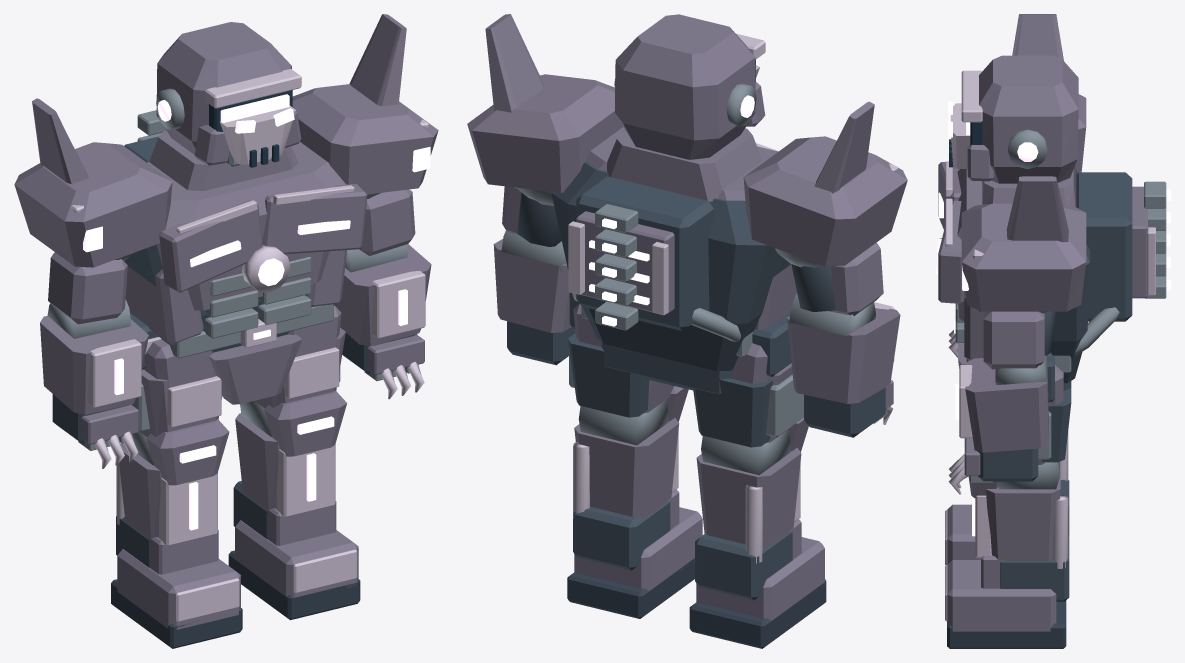
Rendered from character_revenant.glb.
3 views of the same model, side by side, from view 1: azimuth 30°, elevation 25°; view 2: azimuth 150°, elevation 25°; view 3: azimuth 270°, elevation 25° (orthographic). The views are drawn at different scales.
Parts seen in each view (by area): view 1: shoulder_pauldron_63, shoulder_pauldron_78, helmet_94, thorax_carapace_2, pectoral_plate_13, pectoral_plate_3, forearm_bracer_69, boot_toe_31, boot_toe_47, upper_arm_plate_67, codpiece_24, neck_guard_collar_93 (+48 smaller); view 2: helmet_94, shoulder_pauldron_63, torso_1, shoulder_pauldron_78, reactor_pack_108, forearm_bracer_69, shin_armor_51, shin_armor_35, neck_guard_collar_93, forearm_bracer_84, boot_ankle_49, boot_ankle_33 (+36 smaller); view 3: shoulder_pauldron_78, helmet_94, reactor_pack_108, forearm_bracer_84, boot_toe_47, shin_armor_51, upper_arm_plate_82, shoulder_blade_fin_127, boot_sole_46, boot_ankle_49, torso_1, shoulder_blade_fin_122 (+28 smaller).
Part boxes in pixels (x1,y1,x2,y2): shoulder_pauldron_63: (14, 142, 172, 267); shoulder_pauldron_78: (292, 84, 438, 194); helmet_94: (156, 22, 291, 154); thorax_carapace_2: (147, 142, 345, 310); pectoral_plate_13: (262, 184, 367, 254); pectoral_plate_3: (159, 199, 262, 292); forearm_bracer_69: (40, 316, 148, 414); boot_toe_31: (117, 549, 240, 629); boot_toe_47: (235, 520, 358, 597); upper_arm_plate_67: (48, 252, 127, 324); codpiece_24: (208, 334, 302, 404); neck_guard_collar_93: (149, 130, 298, 190); helmet_94: (615, 14, 755, 159); shoulder_pauldron_63: (743, 136, 907, 266); torso_1: (551, 161, 790, 371); shoulder_pauldron_78: (467, 74, 623, 192); reactor_pack_108: (576, 176, 713, 331); forearm_bracer_69: (787, 308, 900, 403); shin_armor_51: (574, 418, 679, 519); shin_armor_35: (696, 447, 801, 549); neck_guard_collar_93: (607, 128, 762, 201); forearm_bracer_84: (493, 239, 571, 332); boot_ankle_49: (573, 501, 670, 570); boot_ankle_33: (695, 531, 792, 600); shoulder_pauldron_78: (961, 203, 1086, 311); helmet_94: (979, 55, 1078, 183); reactor_pack_108: (1076, 172, 1132, 321); forearm_bracer_84: (965, 358, 1048, 452); boot_toe_47: (947, 560, 1056, 631); shin_armor_51: (986, 463, 1060, 561); upper_arm_plate_82: (983, 311, 1044, 369); shoulder_blade_fin_127: (1006, 176, 1068, 242); boot_sole_46: (947, 600, 1066, 648); boot_ankle_49: (1000, 535, 1069, 601); torso_1: (979, 170, 1089, 383); shoulder_blade_fin_122: (1012, 14, 1063, 60).
Bounding box in the file's own units: 1.67 × 2.37 × 0.943.
